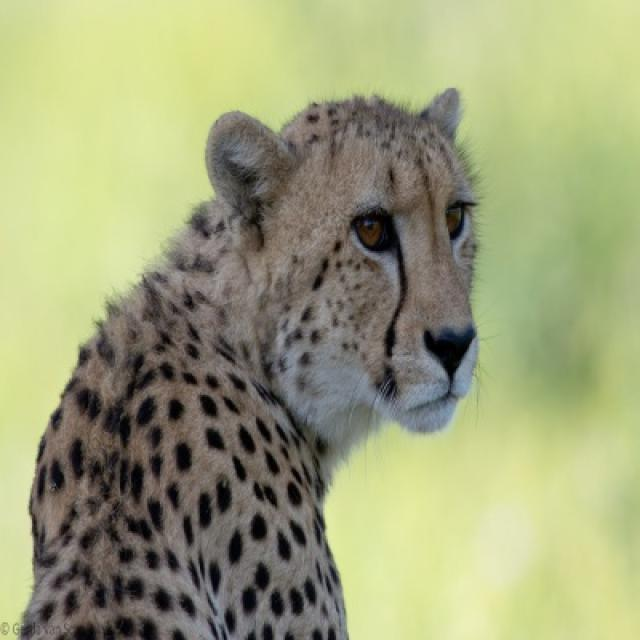Cheetah: (16, 90, 480, 638)
